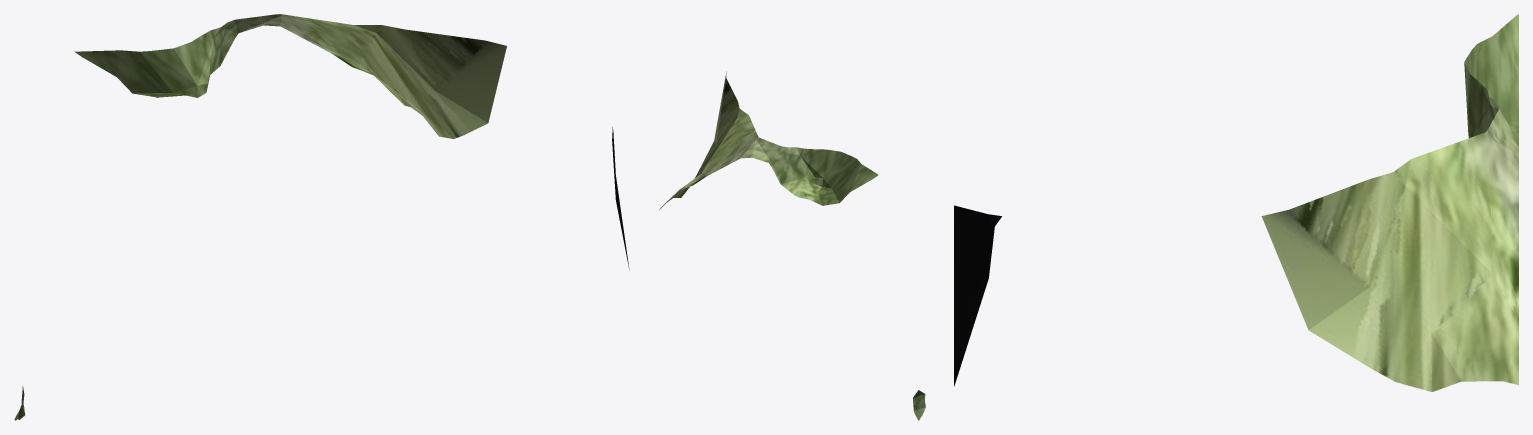
3 renders of one model, left to right at view 1: azimuth 30°, elevation 25°; view 2: azimuth 150°, elevation 25°; view 3: azimuth 270°, elevation 25°, orthographic. The views are drawn at different scales.
Size of the model in its own units: 2.95 by 2.55 by 2.95.
Materials: 1 (1 with a texture image).
